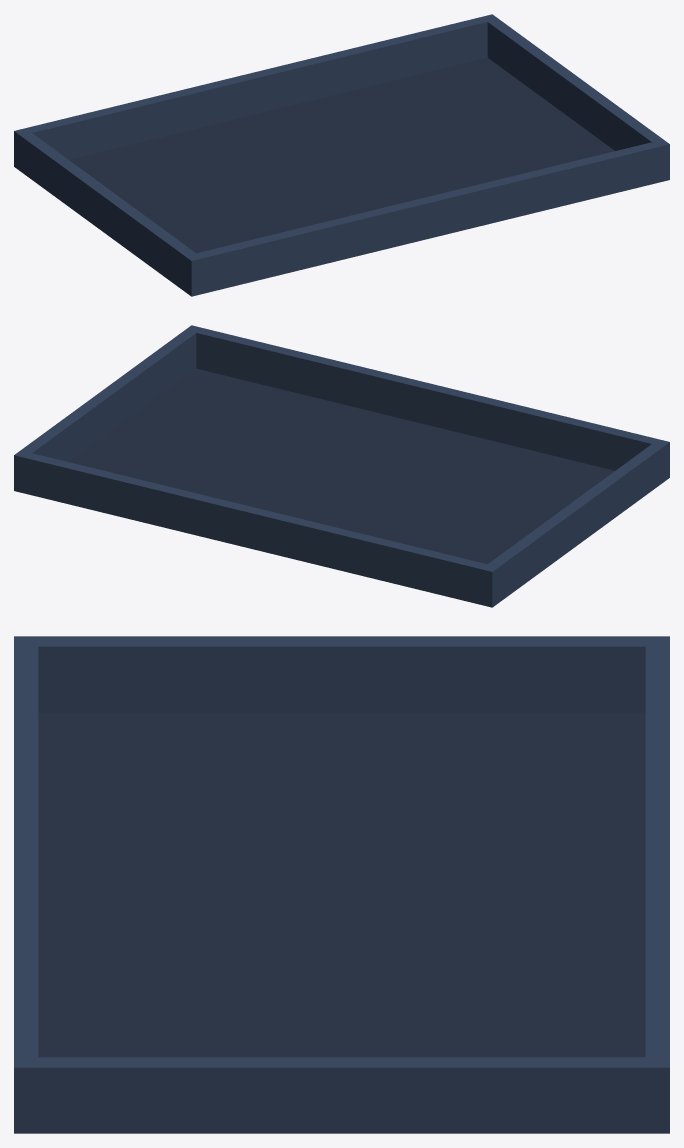
The model's file is arena.glb.
3 views of the same model, one above another, from view 1: azimuth 30°, elevation 25°; view 2: azimuth 150°, elevation 25°; view 3: azimuth 270°, elevation 25° (orthographic). The views are drawn at different scales.
Bounding box in the file's own units: 16.8 × 1.2 × 10.8.
